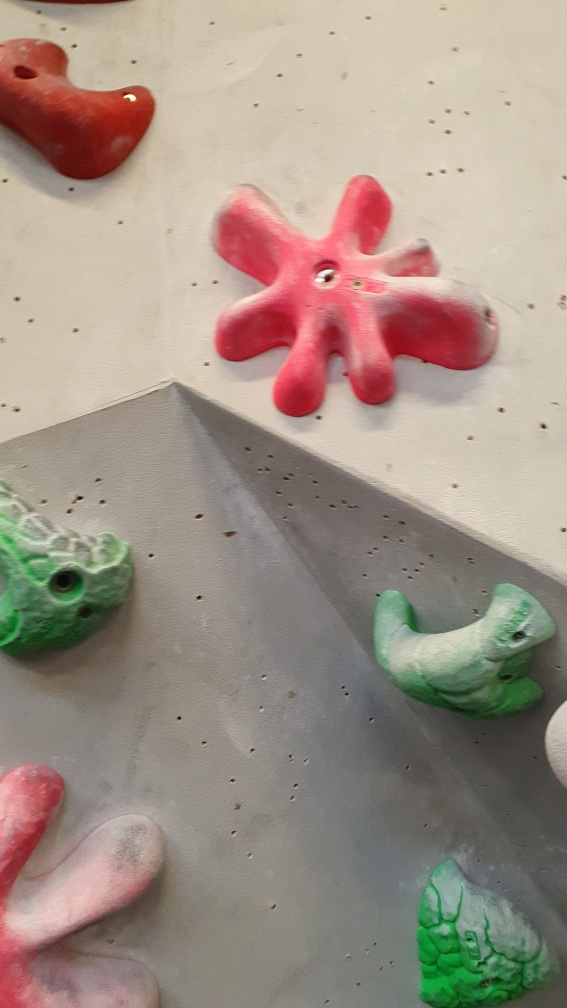Jug: (1, 467, 143, 663), (370, 576, 552, 723), (409, 851, 555, 1006)
Octopus Pinch: (208, 172, 506, 428), (1, 750, 175, 1007)
